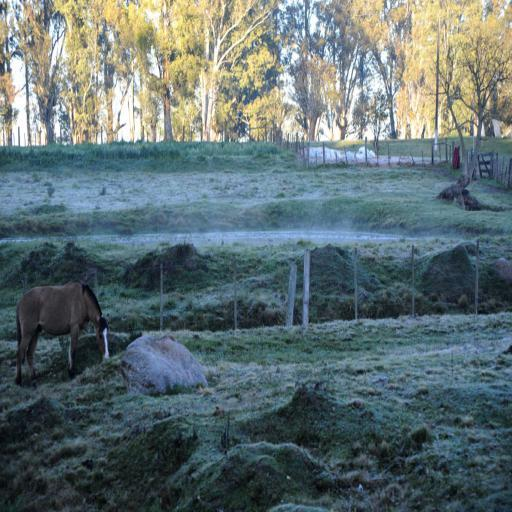Horse: (14, 278, 112, 388)
